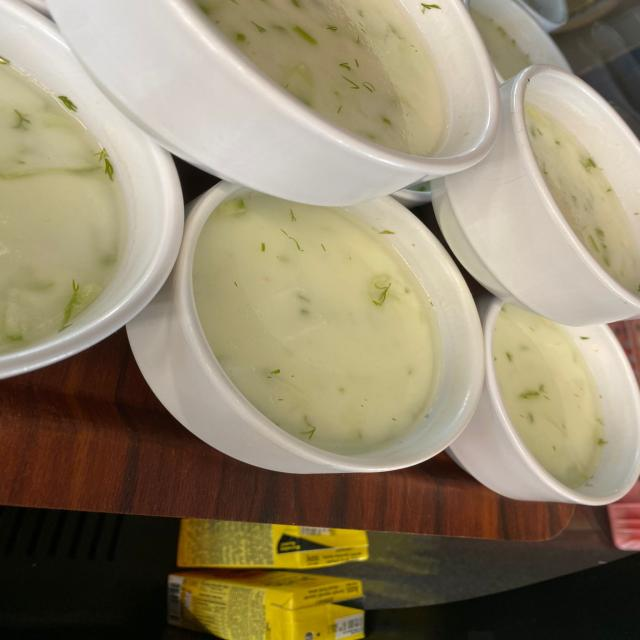corba: (193, 196, 451, 471)
